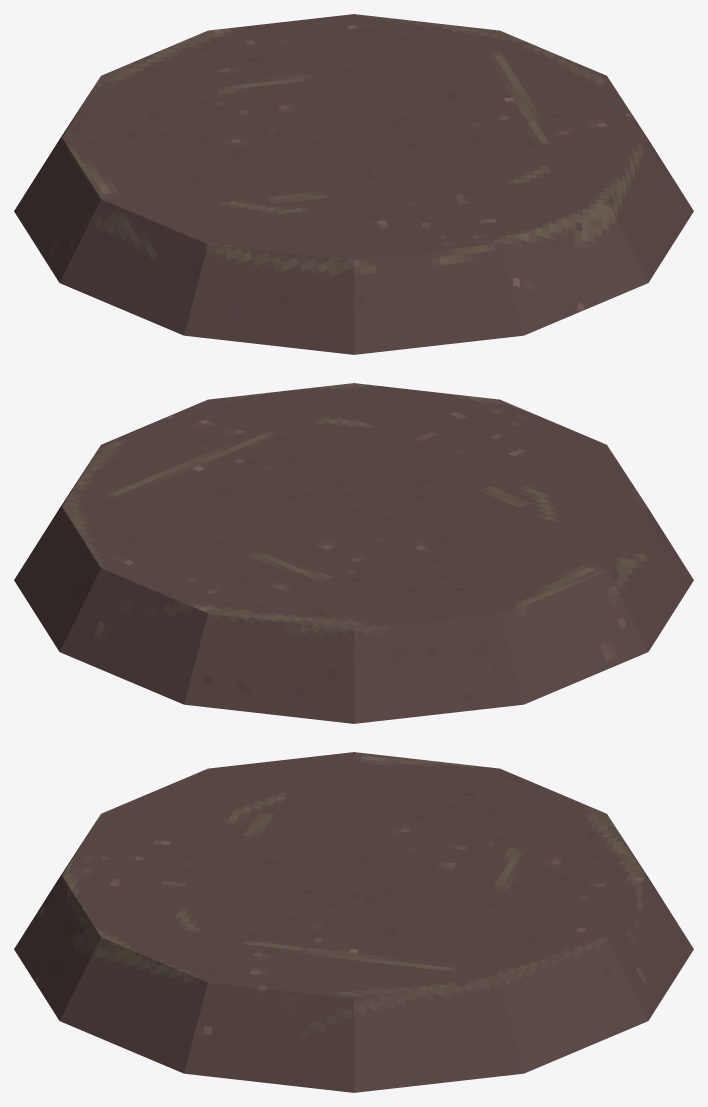
Rendered from Button.fbx.
3 views of the same model, one above another, from view 1: azimuth 30°, elevation 25°; view 2: azimuth 150°, elevation 25°; view 3: azimuth 270°, elevation 25° (orthographic).
Parts seen in each view (by area): view 1: Button; view 2: Button; view 3: Button.
Boxes of the visible parts, <box> form: Button: <box>14,14,693,354</box>; Button: <box>14,383,693,723</box>; Button: <box>14,752,693,1092</box>.
Bounding box in the file's own units: 144 × 17.19 × 144.
Materials: 1 (1 with a texture image).
